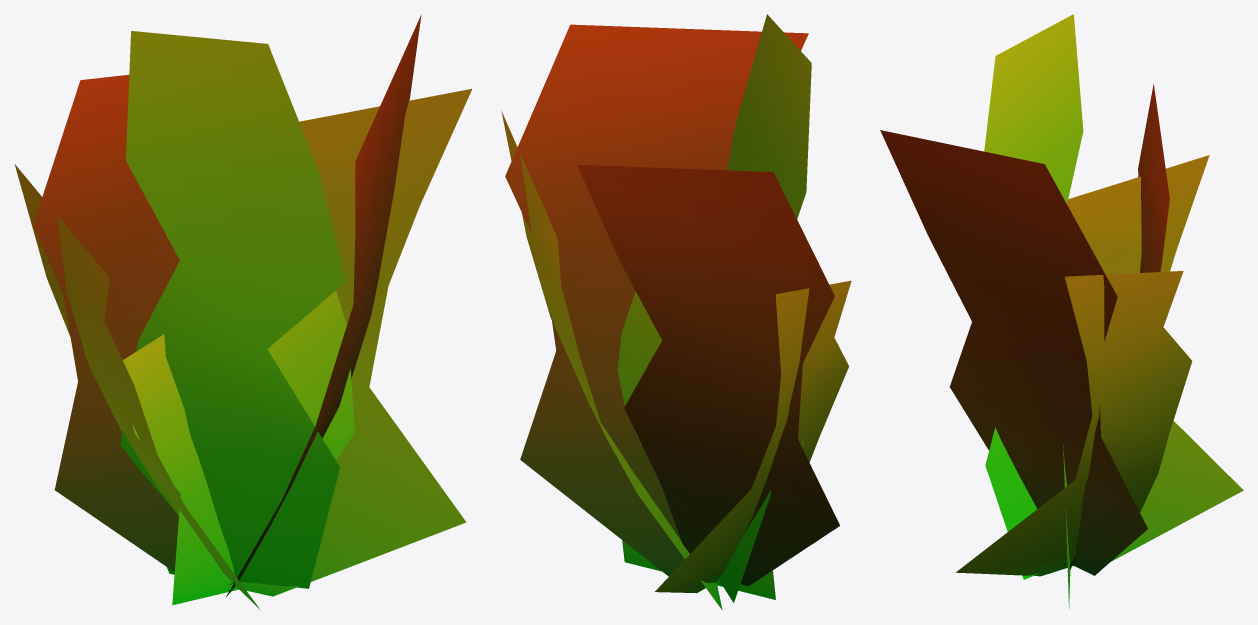
Rendered from Var8Hi44.fbx.
The picture shows the model from 3 angles, left to right: view 1: azimuth 30°, elevation 25°; view 2: azimuth 150°, elevation 25°; view 3: azimuth 270°, elevation 25°; orthographic projection. The views are drawn at different scales.
Visible parts, largest first — view 1: bend1; view 2: bend1; view 3: bend1.
Boxes of the visible parts, x1=… form: bend1: x1=14, y1=15, x2=471, y2=610; bend1: x1=501, y1=14, x2=851, y2=610; bend1: x1=880, y1=14, x2=1243, y2=608.
Size of the model in its own units: 1.26 by 1.77 by 1.14.
